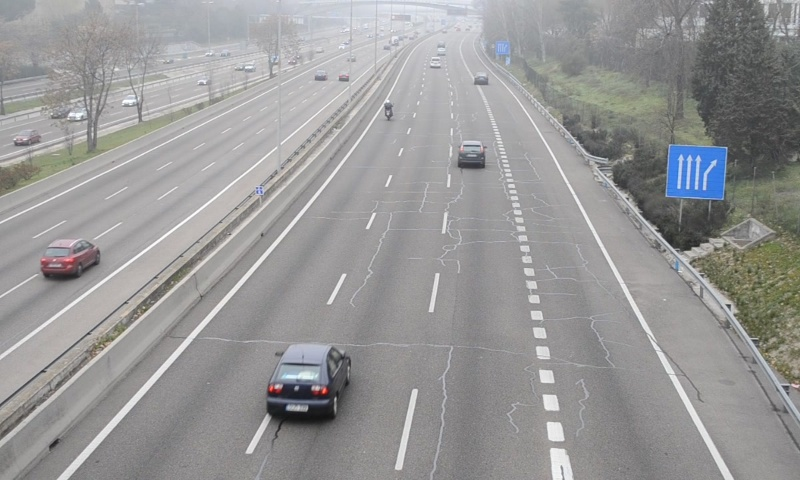car: (265, 343, 352, 422), (458, 140, 485, 168), (474, 72, 488, 85)
motorcycle: (383, 98, 394, 122)
